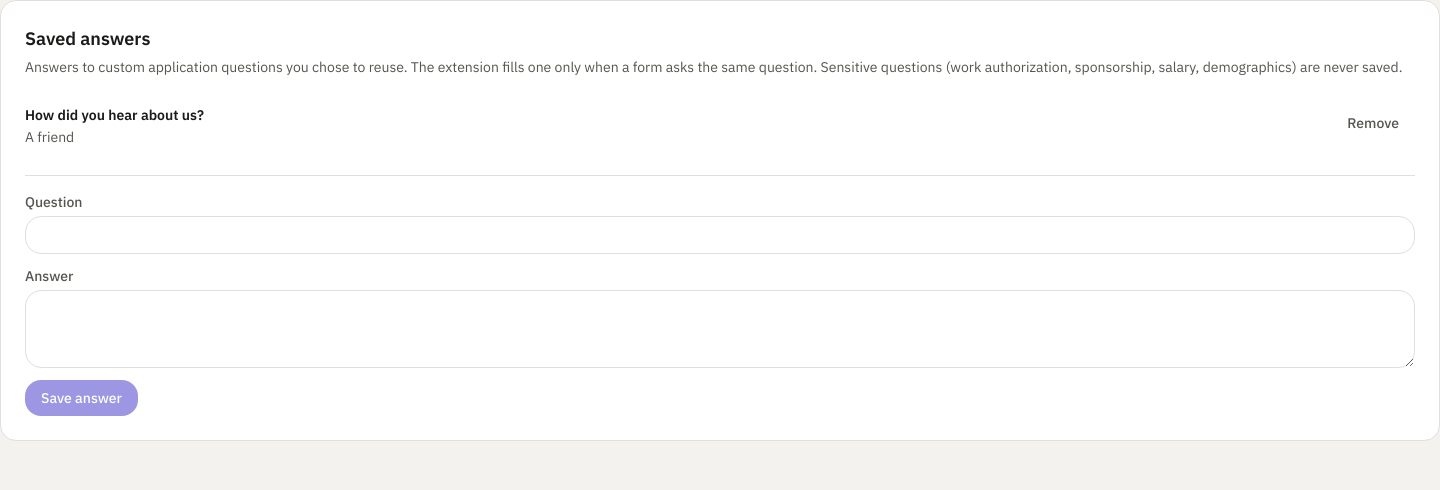
Test: SavedAnswersSection › explains why a sensitive question was refused
The image size is (1440, 490).
Expected: the text "A friend" is shown, x1=25 y1=128 x2=74 y2=146
Type "Do you need visa sponsorship?" into the field labelled "Question" at (720, 235), box x1=25 y1=216 x2=1415 y2=254
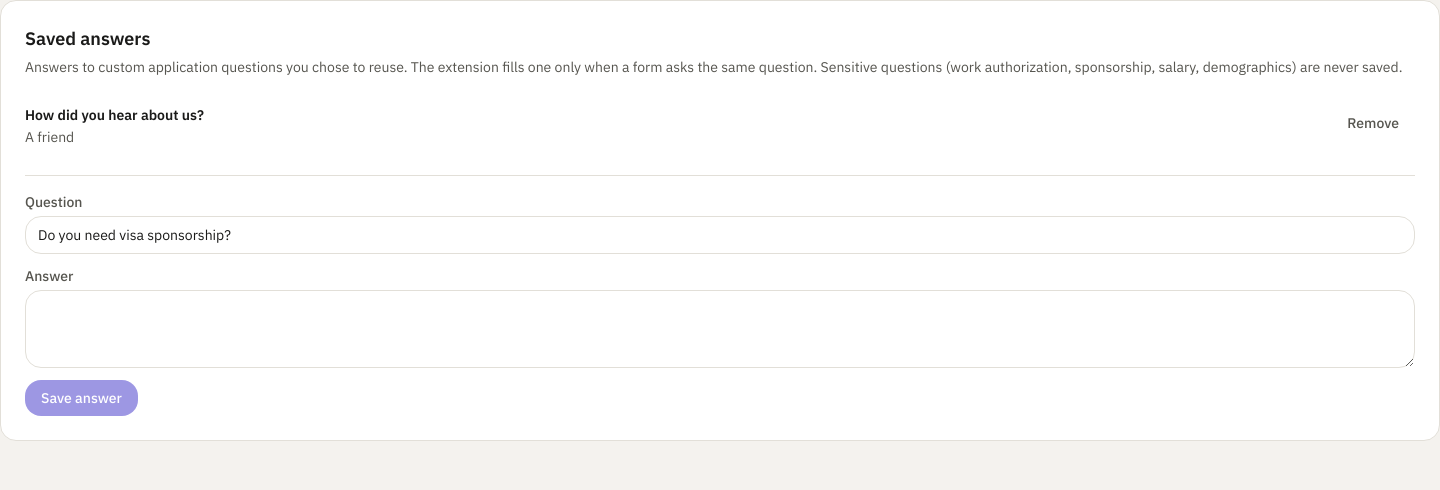
Type "No" into the text box labelled "Answer" at (720, 329), box x1=25 y1=290 x2=1415 y2=368
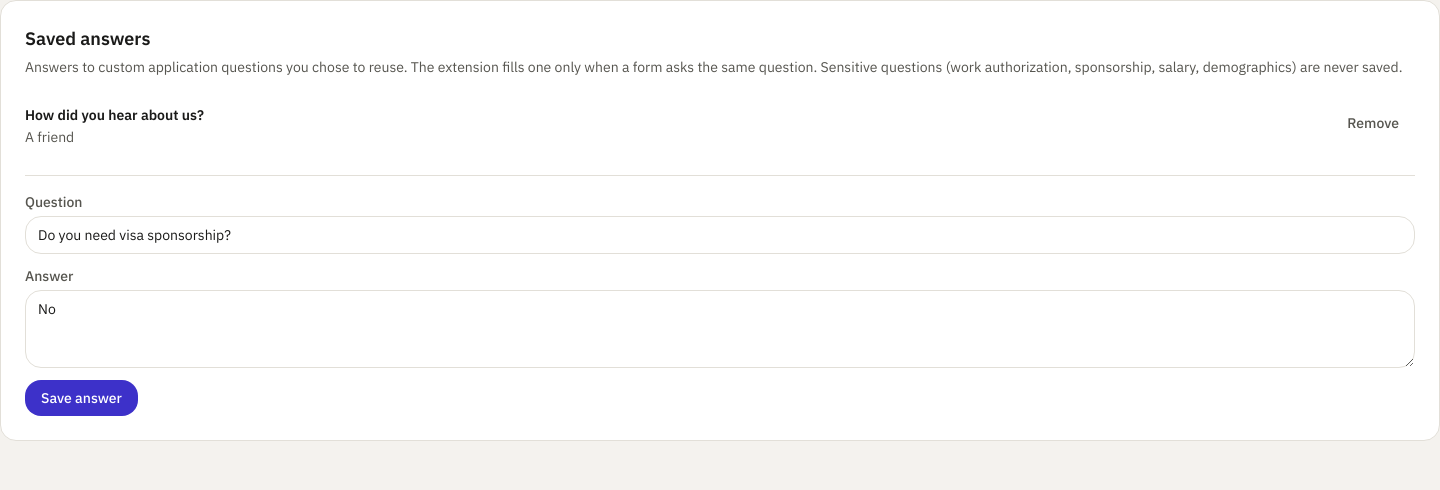
Click the button "Save answer" at (81, 398), box x1=25 y1=380 x2=138 y2=416
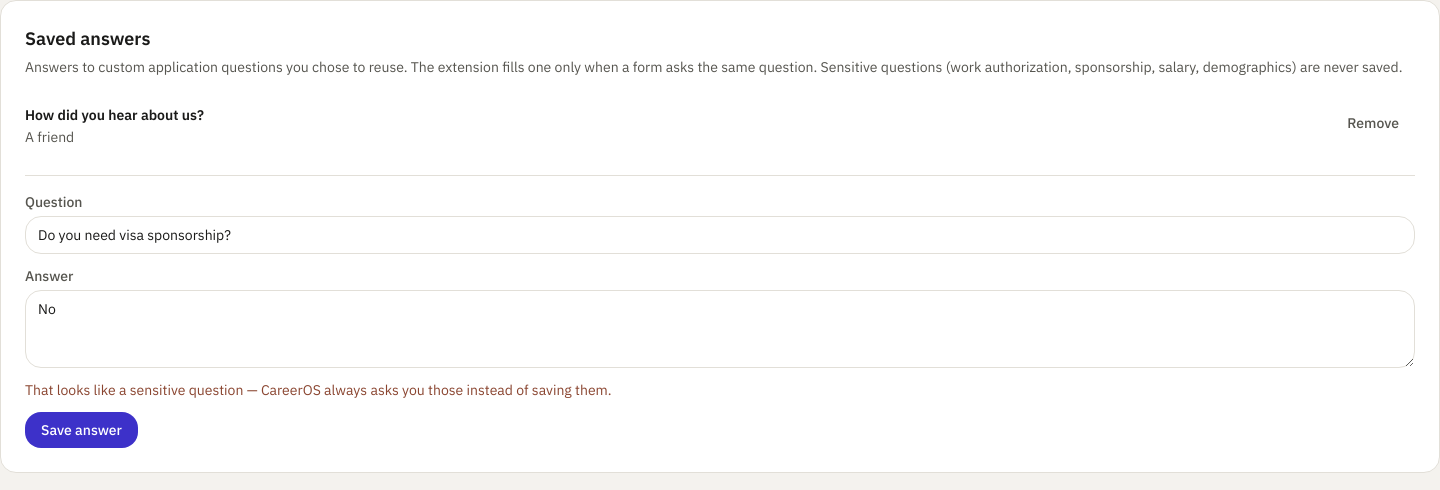
Expected: the message shows "sensitive question", x1=25 y1=381 x2=612 y2=399
